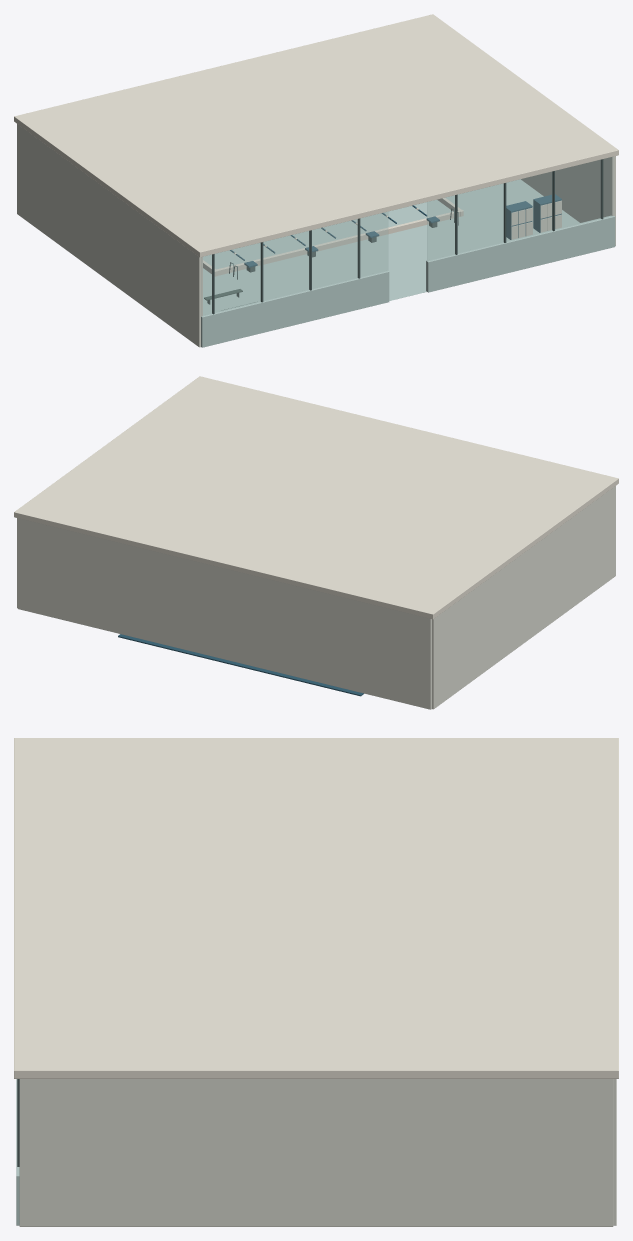
The model's file is swimming-hall.glb.
The picture shows the model from 3 angles, top to bottom: view 1: azimuth 30°, elevation 25°; view 2: azimuth 150°, elevation 25°; view 3: azimuth 270°, elevation 25°; orthographic projection. The views are drawn at different scales.
Visible parts, largest first — view 1: swimming-hall__architecture_and_equipment; view 2: swimming-hall__architecture_and_equipment; view 3: swimming-hall__architecture_and_equipment.
Part boxes in pixels (x1,y1,x2,y2): swimming-hall__architecture_and_equipment: (14, 14, 618, 347); swimming-hall__architecture_and_equipment: (14, 376, 618, 709); swimming-hall__architecture_and_equipment: (14, 738, 618, 1226).
Size of the model in its own units: 34.5 by 9.05 by 26.5.
